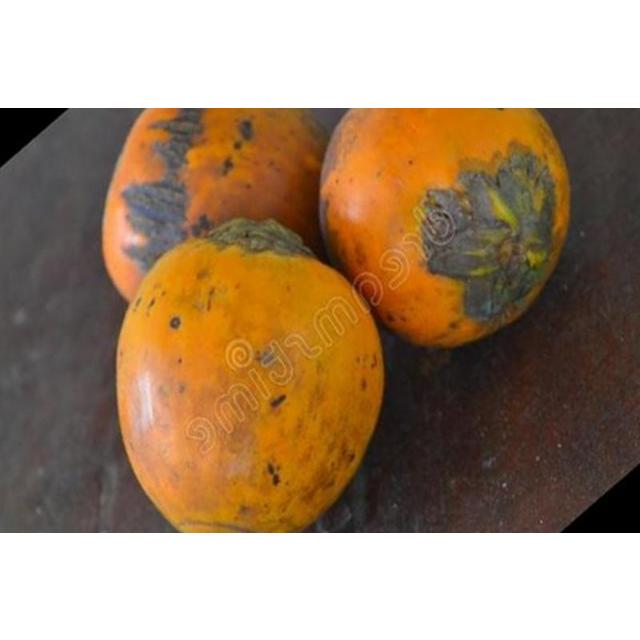good: (118, 224, 380, 526), (325, 114, 567, 348), (105, 110, 322, 298)
